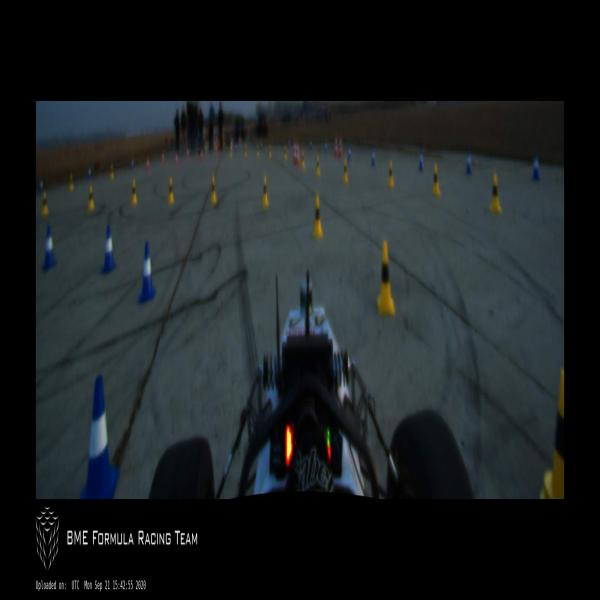blue_cone: (79, 375, 119, 498), (138, 239, 156, 303), (41, 225, 57, 271), (101, 225, 116, 274), (532, 152, 540, 179), (466, 148, 472, 174), (419, 147, 424, 171), (371, 147, 376, 167), (348, 143, 352, 160), (39, 178, 43, 195), (87, 165, 91, 181), (131, 158, 134, 171), (324, 141, 327, 153), (309, 140, 312, 151), (234, 142, 237, 152), (288, 138, 290, 148), (260, 141, 262, 150)
large_orange_cone: (296, 138, 300, 168), (338, 134, 342, 157), (334, 135, 338, 157), (293, 138, 296, 164)
orange_cone: (175, 152, 178, 166), (146, 157, 149, 170), (200, 150, 202, 163), (162, 151, 164, 163), (186, 148, 188, 158)
yellow_cone: (538, 368, 564, 498), (376, 241, 396, 316), (489, 172, 503, 215), (312, 195, 323, 238), (432, 166, 440, 197), (87, 183, 95, 211), (130, 179, 138, 205), (262, 176, 269, 205), (41, 190, 49, 215), (210, 176, 217, 202), (388, 160, 394, 189), (168, 178, 174, 204), (342, 158, 348, 182), (68, 172, 74, 192), (316, 155, 320, 176), (301, 150, 305, 169), (284, 144, 288, 162), (110, 163, 114, 180), (268, 143, 272, 157), (229, 144, 232, 159), (256, 143, 259, 157), (244, 144, 246, 159)
